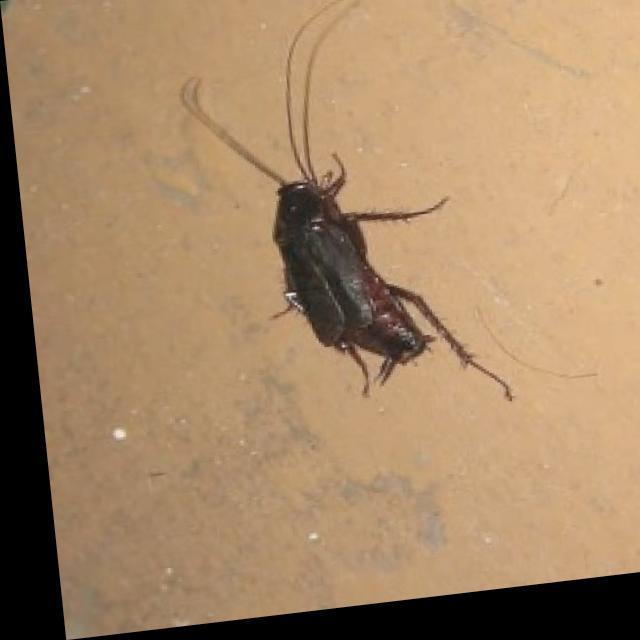cockroach: (175, 2, 517, 405)
